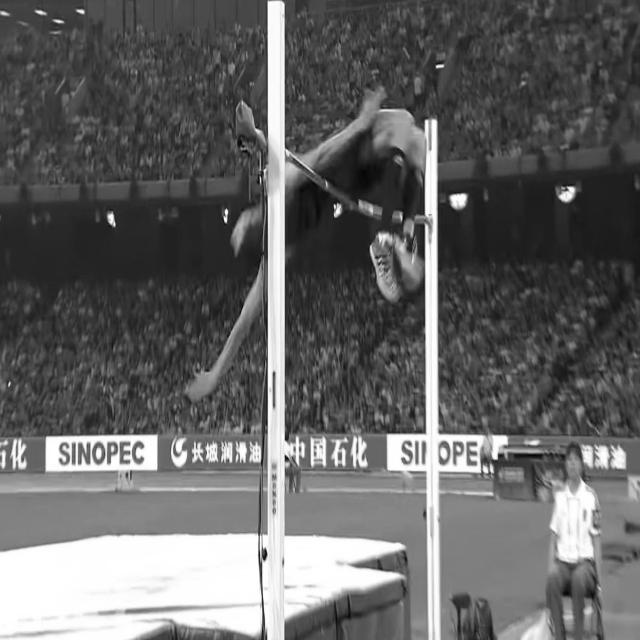jump: (183, 91, 426, 403)
